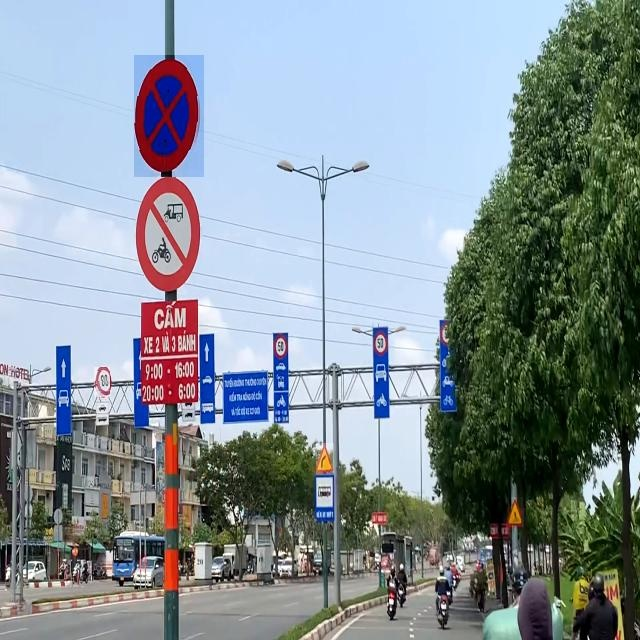bien_cam: (134, 55, 204, 177), (316, 443, 334, 475), (506, 497, 524, 527), (94, 368, 110, 398)
